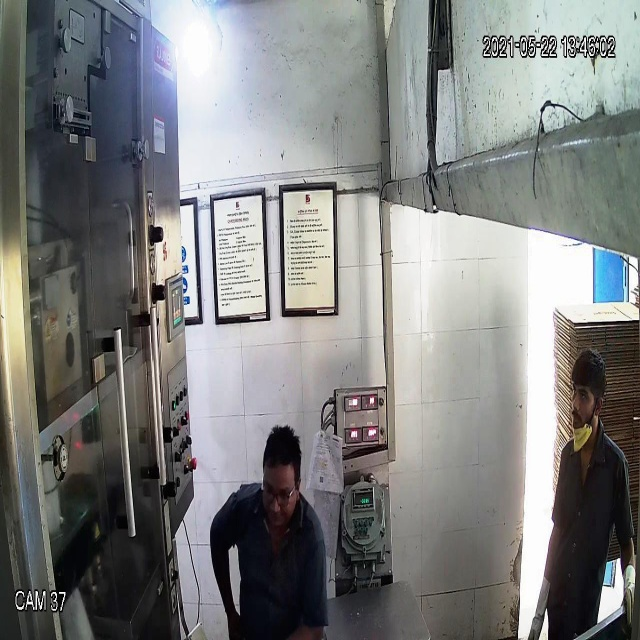Gafas: (259, 476, 300, 513)
Sin_gafas: (568, 383, 602, 407)
